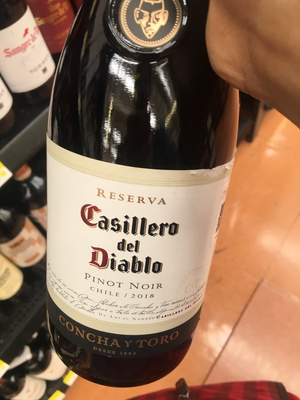casillero del diablo pinot noir: (31, 15, 237, 391)
